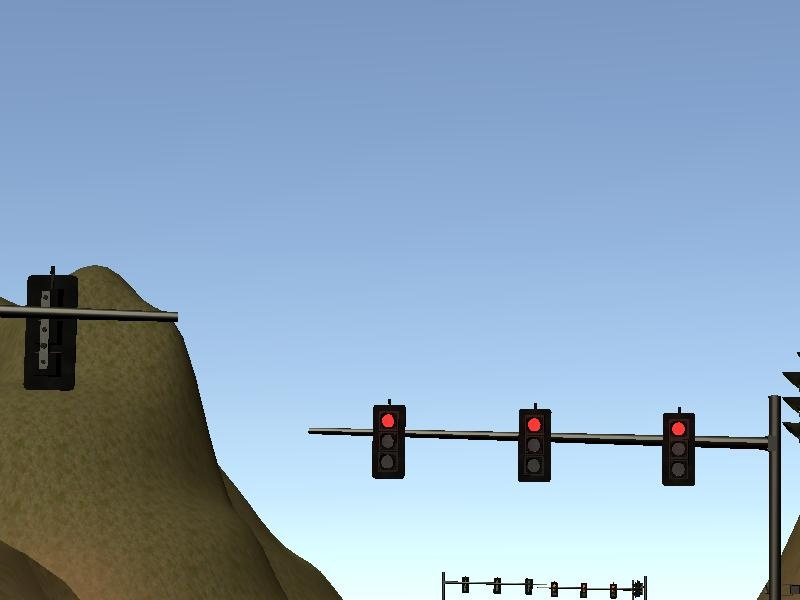red: (371, 402, 408, 481), (663, 414, 695, 485), (518, 410, 550, 480)
